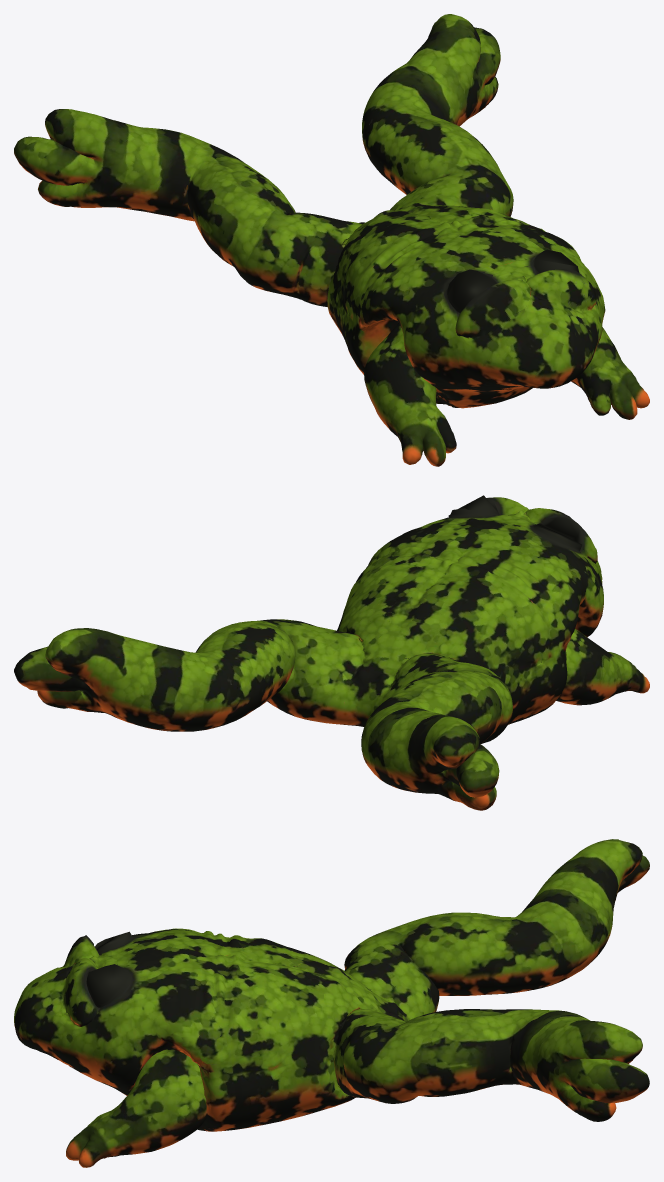
File: toad.swim.glb
3 views of the same model, one above another, from view 1: azimuth 30°, elevation 25°; view 2: azimuth 150°, elevation 25°; view 3: azimuth 270°, elevation 25° (orthographic).
Parts seen in each view (by area): view 1: toad.swim; view 2: toad.swim; view 3: toad.swim.
Part boxes in pixels (x1=…): toad.swim: x1=14, y1=14, x2=649, y2=466; toad.swim: x1=14, y1=495, x2=649, y2=810; toad.swim: x1=14, y1=839, x2=649, y2=1167.
Bounding box in the file's own units: 0.0571 × 0.0208 × 0.0665.
1 material, 1 textured.
